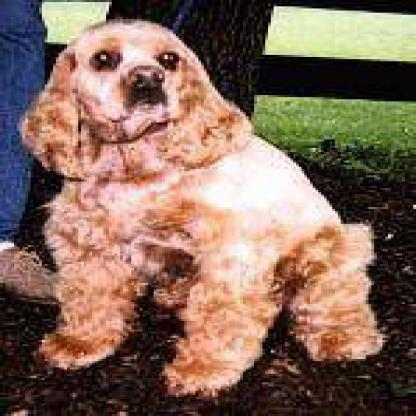dog: (26, 10, 309, 348)
